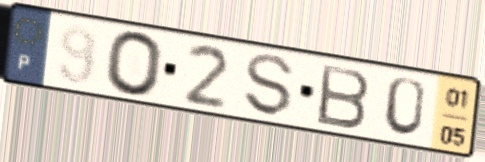0: (380, 75, 428, 140)
2: (183, 43, 232, 110)
9: (56, 21, 103, 87)
B: (314, 61, 373, 132)
O: (104, 28, 166, 99)
S: (243, 51, 297, 120)
